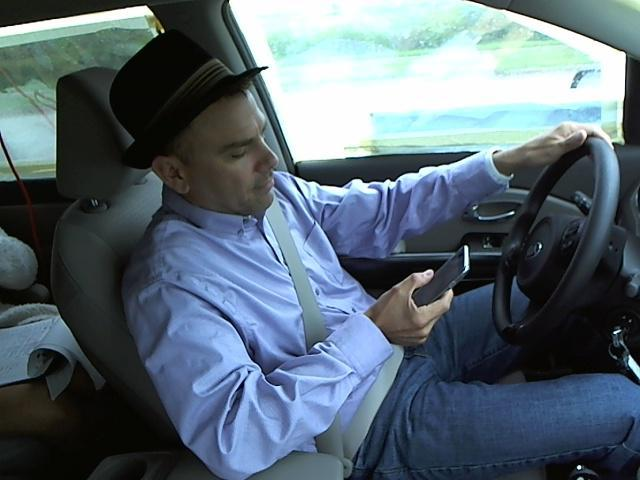PhoneUse: (396, 242, 478, 322)
